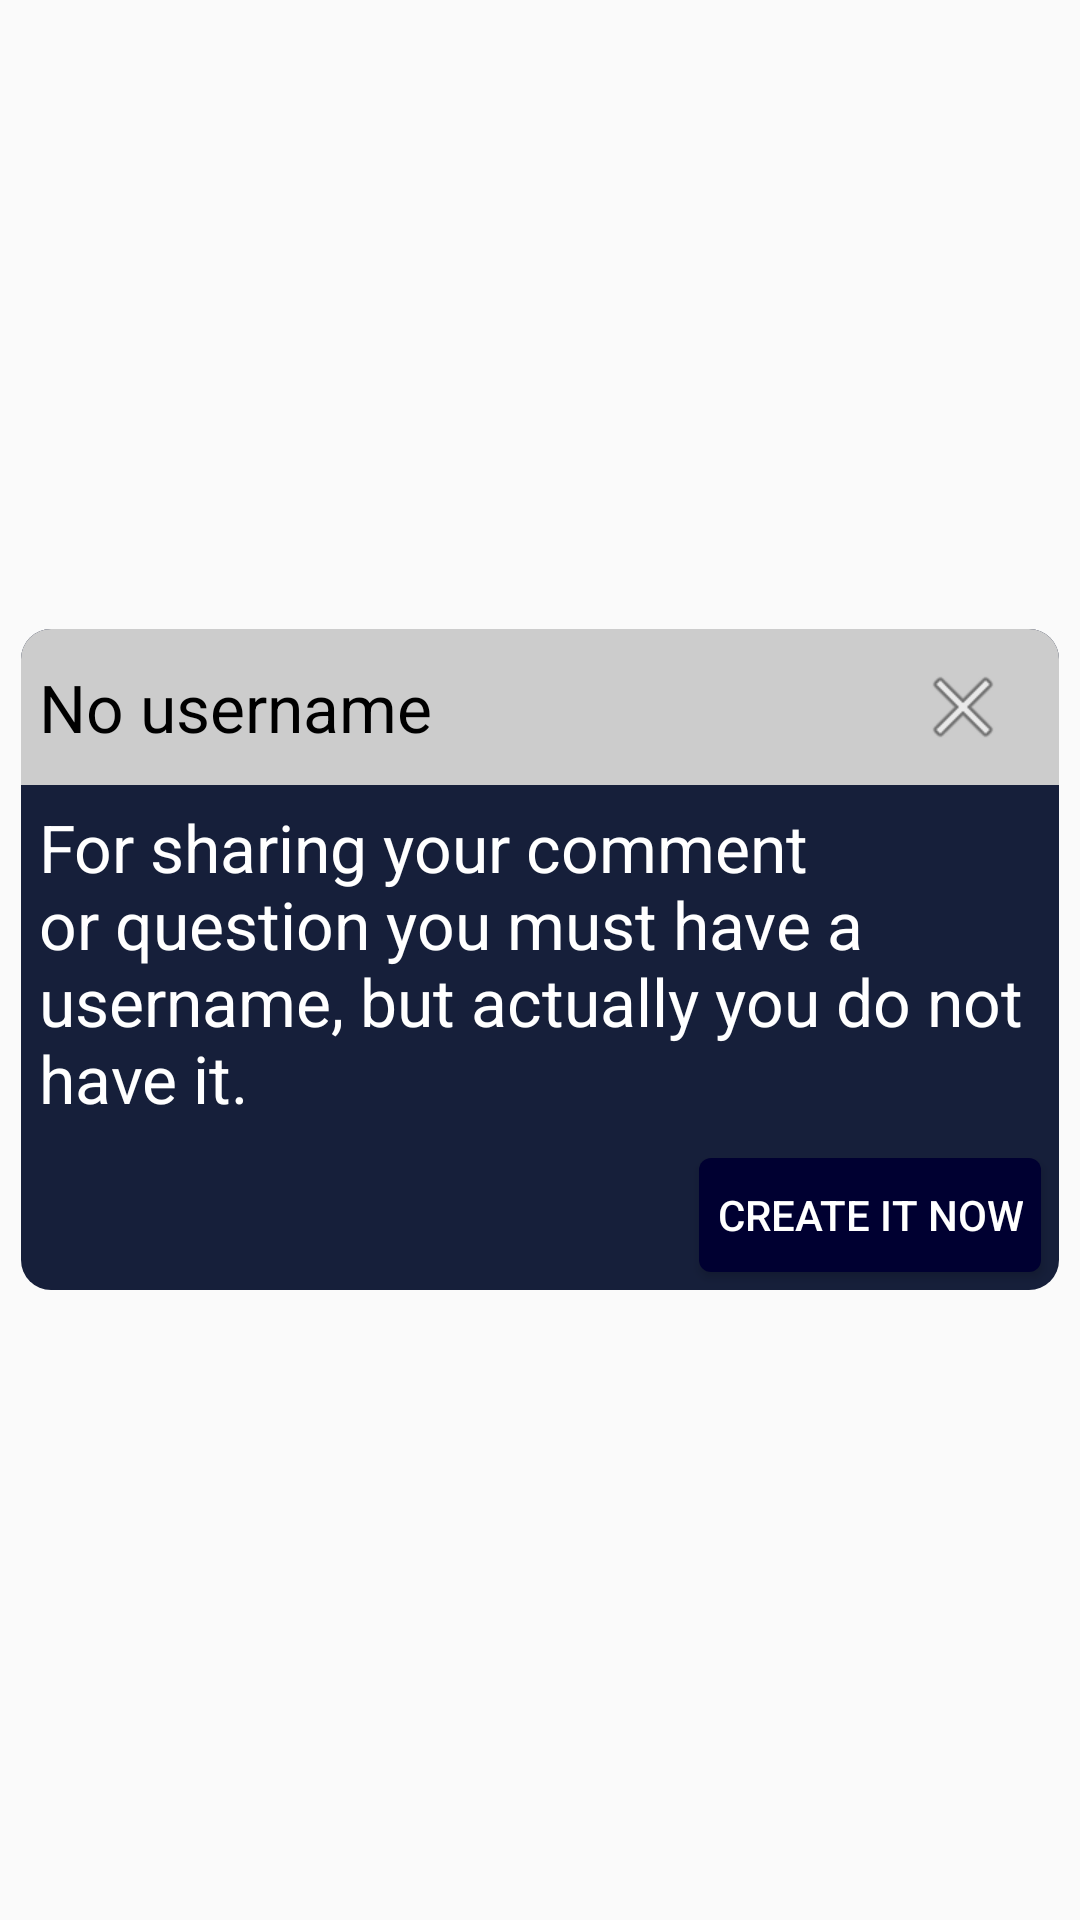

Point at icon controls on the screen. Image size 1080 × 1920, points as point (x, y).
close clear cancel: point (963, 707)
